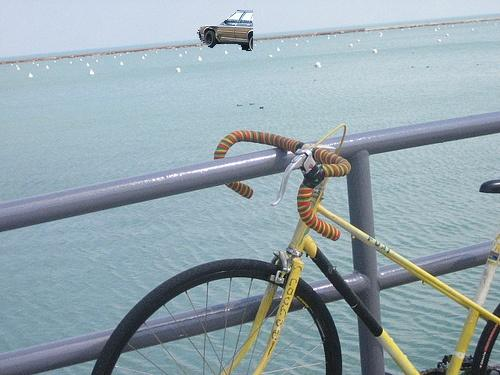tampered: (198, 11, 253, 51)
